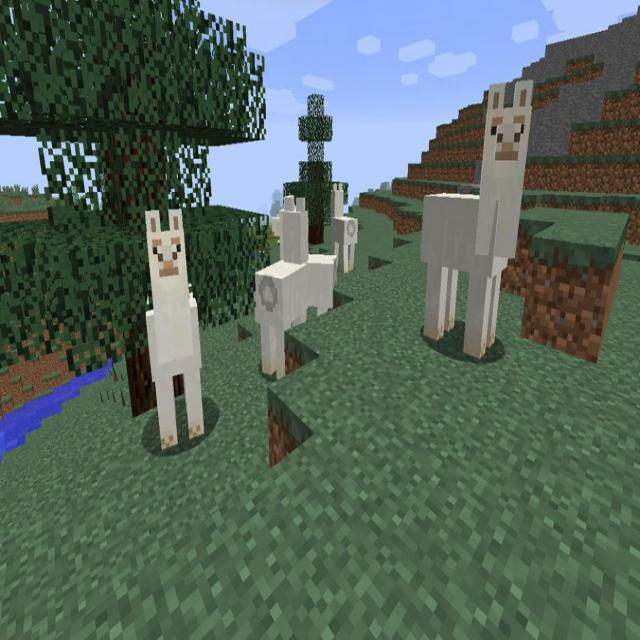Llama: (414, 76, 542, 367), (138, 207, 210, 455), (255, 198, 313, 390), (268, 193, 336, 327), (327, 179, 360, 279)
